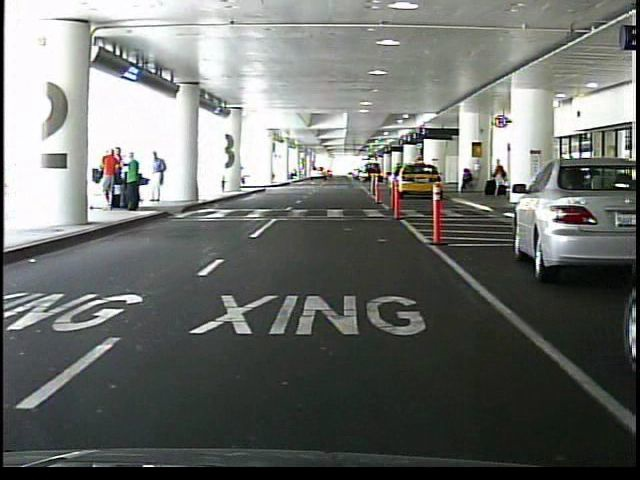person: (125, 152, 144, 213), (149, 153, 168, 207), (104, 149, 120, 210), (490, 160, 505, 199), (457, 170, 474, 196)
